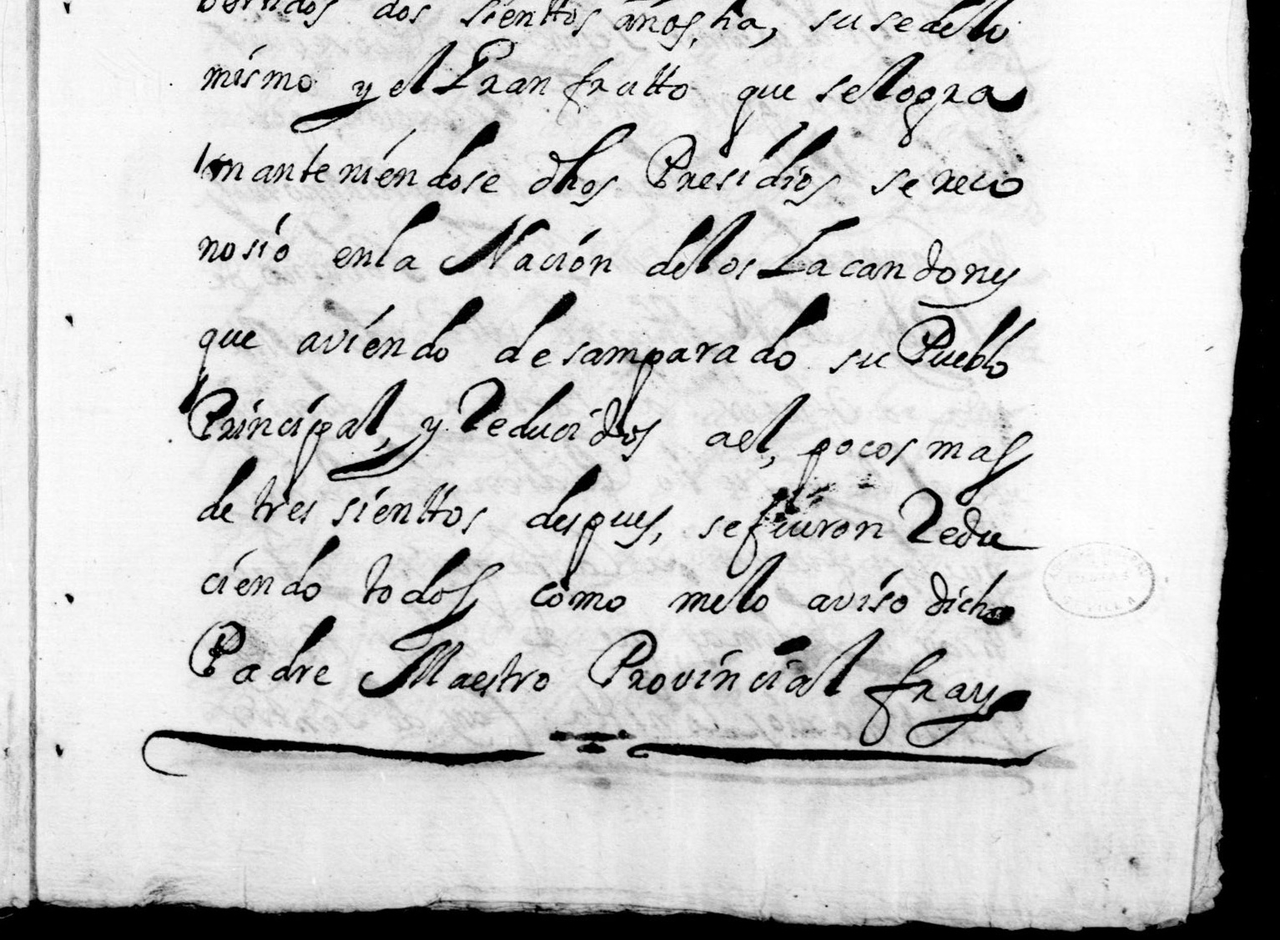lacandon: (757, 215, 1020, 309)
